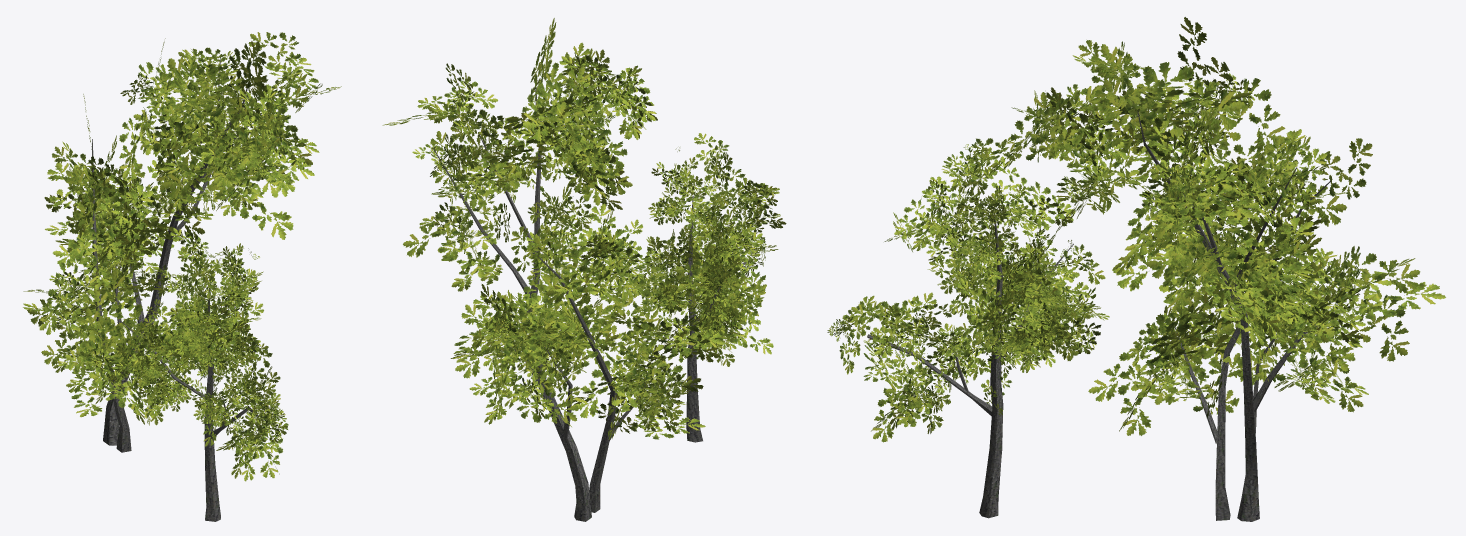
Rendered from trees_low_polly.glb.
3 views of the same model, side by side, from view 1: azimuth 30°, elevation 25°; view 2: azimuth 150°, elevation 25°; view 3: azimuth 270°, elevation 25° (orthographic). The views are drawn at different scales.
Parts seen in each view (by area): view 1: mesh_48_47.nr, mesh_143_142.nr; view 2: mesh_48_47.nr, mesh_143_142.nr; view 3: mesh_48_47.nr, mesh_143_142.nr.
Boxes of the visible parts, left/top/right/bottom form: mesh_48_47.nr: left=23, top=32, right=341, bottom=452; mesh_143_142.nr: left=95, top=228, right=288, bottom=521; mesh_48_47.nr: left=382, top=18, right=724, bottom=521; mesh_143_142.nr: left=567, top=133, right=786, bottom=442; mesh_48_47.nr: left=989, top=17, right=1445, bottom=521; mesh_143_142.nr: left=827, top=137, right=1109, bottom=518.
Bounding box in the file's own units: 5.11 × 6.51 × 6.97.
Materials: 1 (1 with a texture image).
